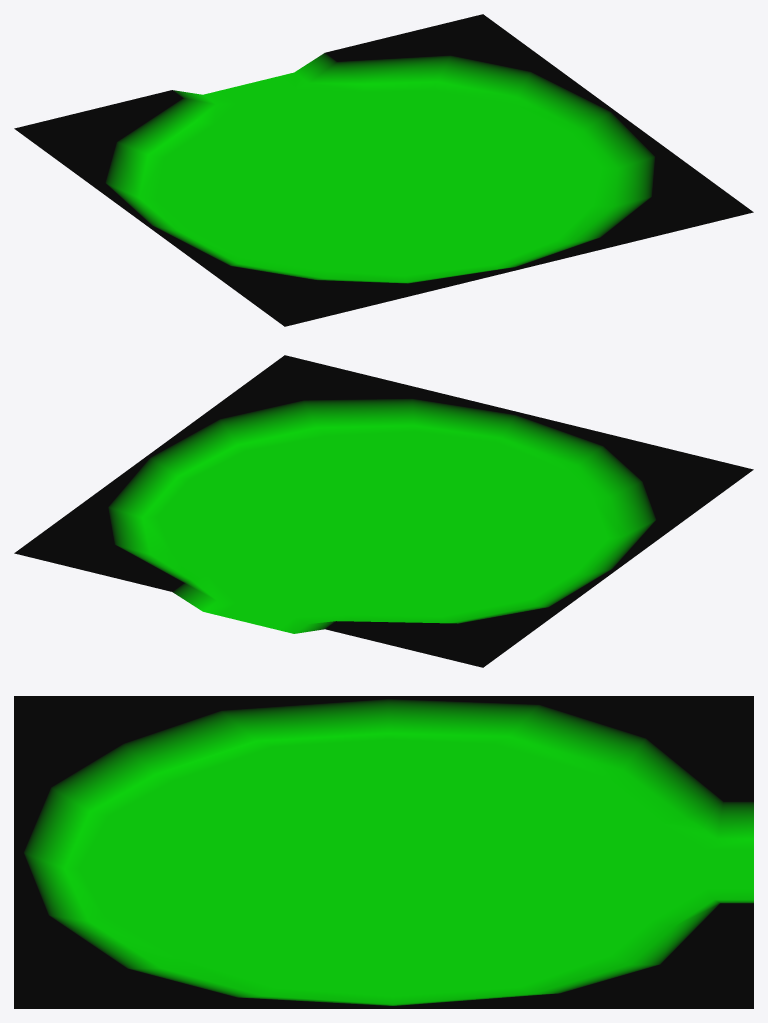
File: SM_Ground_8m_PathwaySquareA.FBX
3 views of the same model, one above another, from view 1: azimuth 30°, elevation 25°; view 2: azimuth 150°, elevation 25°; view 3: azimuth 270°, elevation 25° (orthographic). The views are drawn at different scales.
Visible parts, largest first — view 1: SM_Ground_8m_PathwaySquareA; view 2: SM_Ground_8m_PathwaySquareA; view 3: SM_Ground_8m_PathwaySquareA.
Boxes of the visible parts, box(x1,y1,x2,y2) form: SM_Ground_8m_PathwaySquareA: box(14, 14, 753, 326); SM_Ground_8m_PathwaySquareA: box(14, 355, 753, 667); SM_Ground_8m_PathwaySquareA: box(14, 696, 753, 1008).
Bounding box in the file's own units: 800 × 800 × 20.
